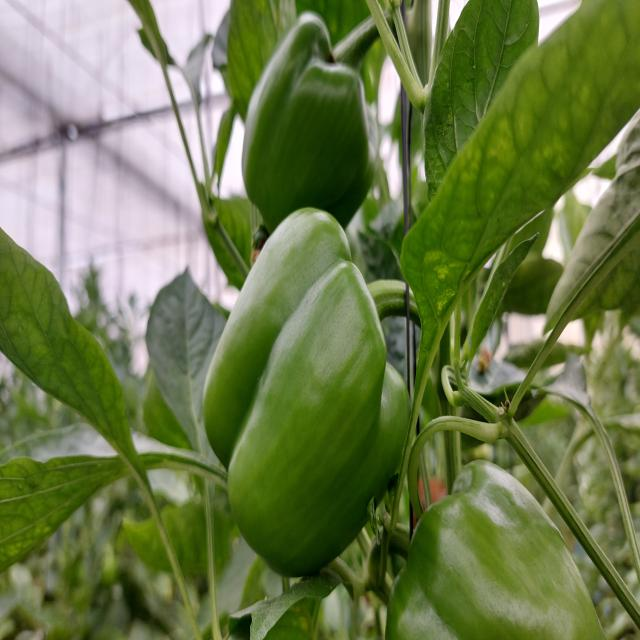Green--Not-ready-to-harvest: (198, 207, 415, 582), (384, 454, 611, 635), (240, 10, 381, 228)
